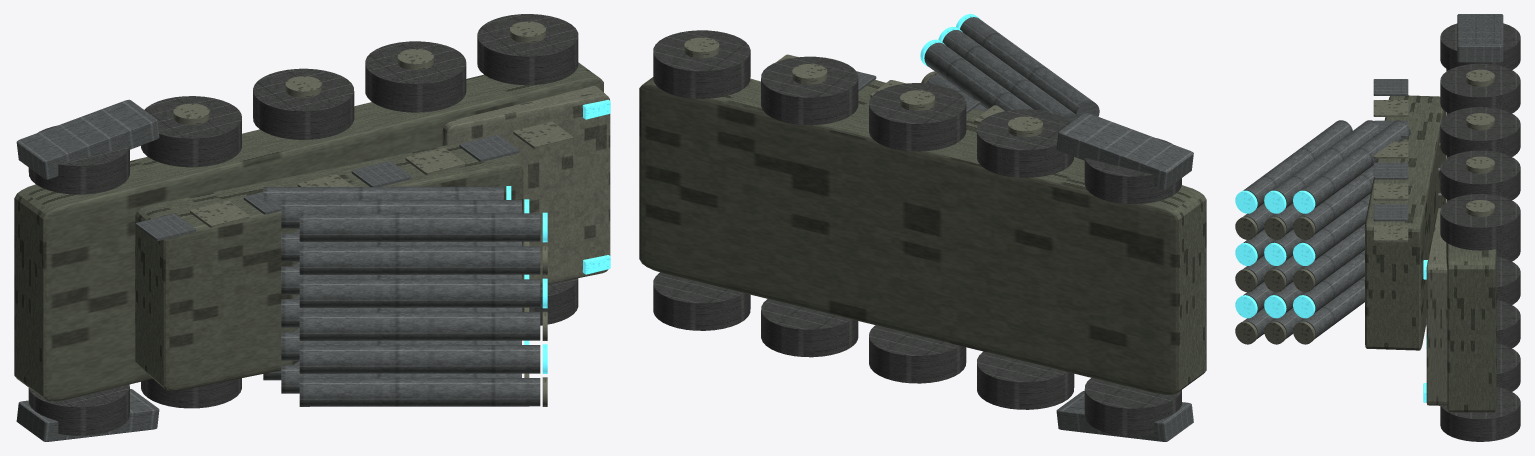
The model's file is v-u17-vanguard-rocket-artillery-lod0.glb.
3 renders of one model, left to right at view 1: azimuth 30°, elevation 25°; view 2: azimuth 150°, elevation 25°; view 3: azimuth 270°, elevation 25°, orthographic. The views are drawn at different scales.
Visible parts, largest first — view 1: chassis_lower, upper_hull, chassis_nose, rocket_tube_14, rocket_tube_15, rocket_tube_13, rocket_tube_16, rocket_tube_17, rocket_tube_18, rocket_jack_1, chassis_wheel_1_2, chassis_wheel_1_3 (+24 smaller); view 2: chassis_lower, rocket_jack_1, chassis_wheel_1_4, chassis_wheel_1_3, chassis_wheel_1_2, chassis_wheel_1_1, chassis_wheel_-1_4, chassis_wheel_-1_3, chassis_wheel_-1_2, chassis_wheel_-1_1, chassis_wheel_-1_0, rocket_tube_18 (+9 smaller); view 3: upper_hull, chassis_lower, chassis_nose, chassis_wheel_1_4, chassis_wheel_1_1, chassis_wheel_1_3, chassis_wheel_1_2, chassis_wheel_-1_4, rocket_tube_6, rocket_jack_1, rocket_tube_18, rocket_tube_12 (+49 smaller).
Boxes of the visible parts, x1,y1,x2,y2 form: chassis_lower: (14,62,603,401); upper_hull: (135,138,523,391); chassis_nose: (442,86,610,285); rocket_tube_14: (299,345,540,373); rocket_tube_15: (299,312,540,340); rocket_tube_13: (299,378,540,406); rocket_tube_16: (299,279,540,307); rocket_tube_17: (299,246,540,274); rocket_tube_18: (299,213,540,241); rocket_jack_1: (16,99,159,179); chassis_wheel_1_2: (253,68,354,139); chassis_wheel_1_3: (365,41,466,112); chassis_lower: (639,77,1206,394); rocket_jack_1: (1056,112,1193,189); chassis_wheel_1_4: (653,30,750,98); chassis_wheel_1_3: (761,56,858,125); chassis_wheel_1_2: (869,83,966,151); chassis_wheel_1_1: (977,109,1073,177); chassis_wheel_-1_4: (653,272,750,330); chassis_wheel_-1_3: (761,299,858,357); chassis_wheel_-1_2: (869,325,966,383); chassis_wheel_-1_1: (977,351,1074,409); chassis_wheel_-1_0: (1084,378,1181,436); rocket_tube_18: (960,17,1099,116); upper_hull: (1365,95,1445,350); chassis_lower: (1446,69,1496,412); chassis_nose: (1426,208,1447,405); chassis_wheel_1_4: (1440,194,1520,250); chassis_wheel_1_1: (1440,63,1520,113); chassis_wheel_1_3: (1440,150,1520,200); chassis_wheel_1_2: (1440,107,1520,156); chassis_wheel_-1_4: (1440,387,1520,441); rocket_tube_6: (1301,120,1410,208); rocket_jack_1: (1457,14,1503,62); rocket_tube_18: (1243,120,1352,208); rocket_tube_12: (1272,120,1380,208).
Size of what is drawn, in the model's own units: 8.11 by 4.27 by 4.51.
6 materials, 6 textured.
